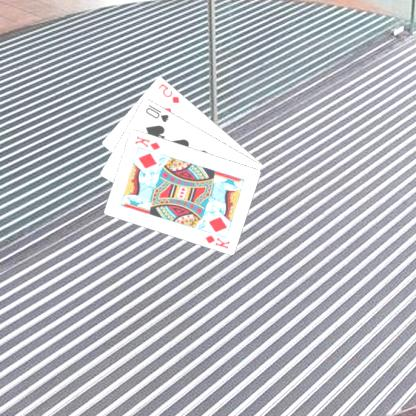10S: (144, 101, 172, 124)
5D: (157, 81, 183, 104)
KD: (134, 132, 164, 152), (204, 232, 233, 250)
